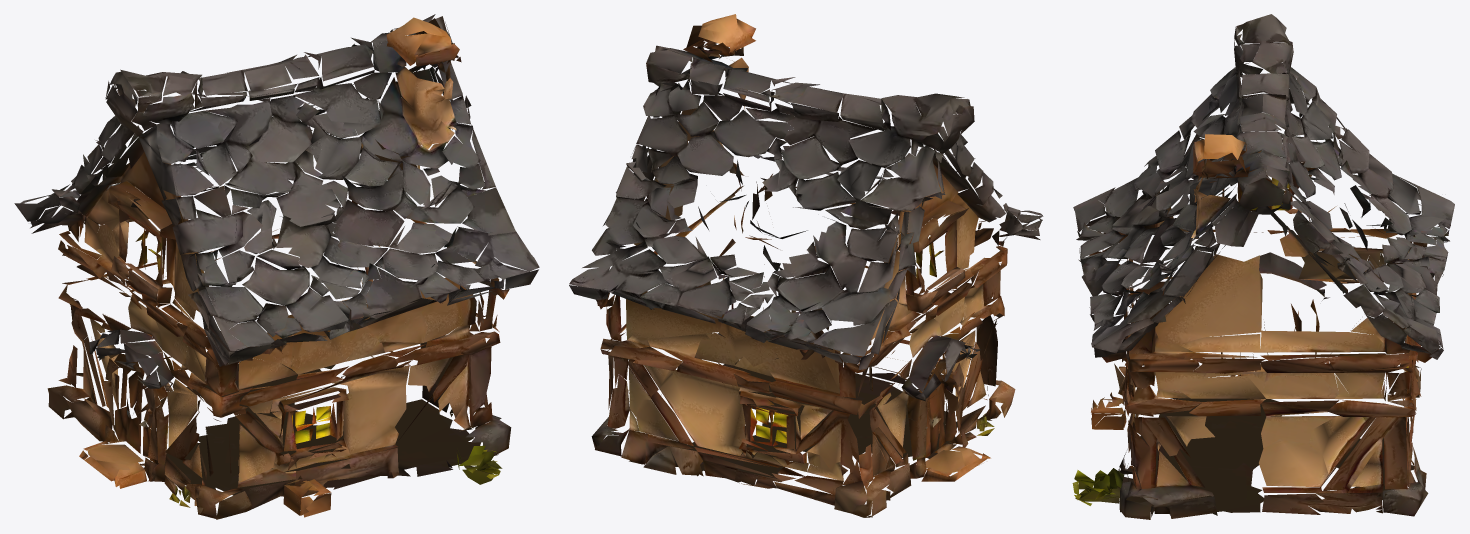
The model's file is tripo-casa153.glb.
The picture shows the model from 3 angles, left to right: view 1: azimuth 30°, elevation 25°; view 2: azimuth 150°, elevation 25°; view 3: azimuth 270°, elevation 25°; orthographic projection. The views are drawn at different scales.
Parts seen in each view (by area): view 1: tripo_node_920a10be-f5ef-4ef0-be55-76ca921e4b25; view 2: tripo_node_920a10be-f5ef-4ef0-be55-76ca921e4b25; view 3: tripo_node_920a10be-f5ef-4ef0-be55-76ca921e4b25.
Part boxes in pixels (x1,y1,x2,y2): tripo_node_920a10be-f5ef-4ef0-be55-76ca921e4b25: (14, 14, 539, 519); tripo_node_920a10be-f5ef-4ef0-be55-76ca921e4b25: (569, 14, 1043, 517); tripo_node_920a10be-f5ef-4ef0-be55-76ca921e4b25: (1072, 14, 1454, 519).
Bounding box in the file's own units: 0.9107 × 0.9889 × 0.9227.
Materials: 1 (1 with a texture image).
